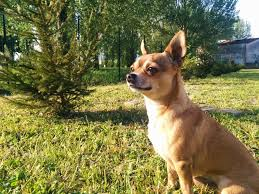chihuahua: (127, 31, 258, 194)
